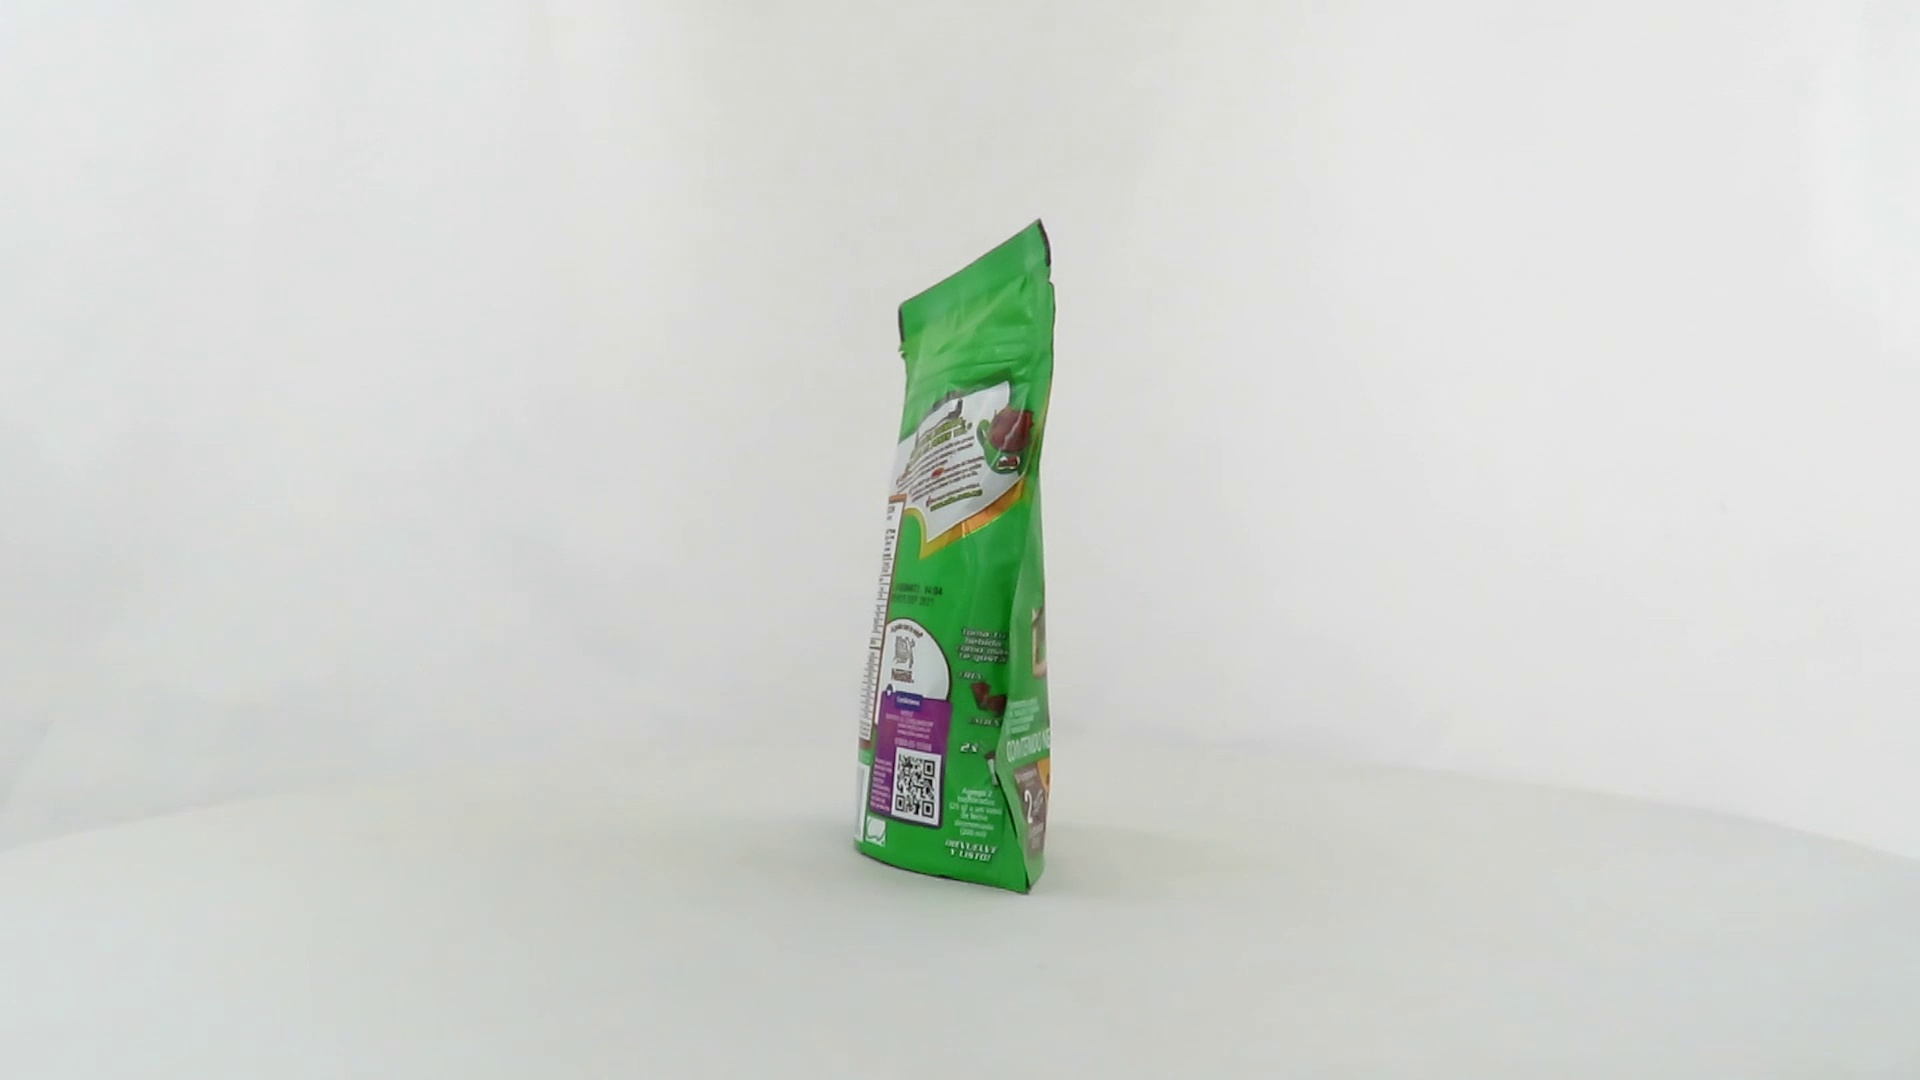COL0170203DYP10000: (848, 214, 1062, 902)
